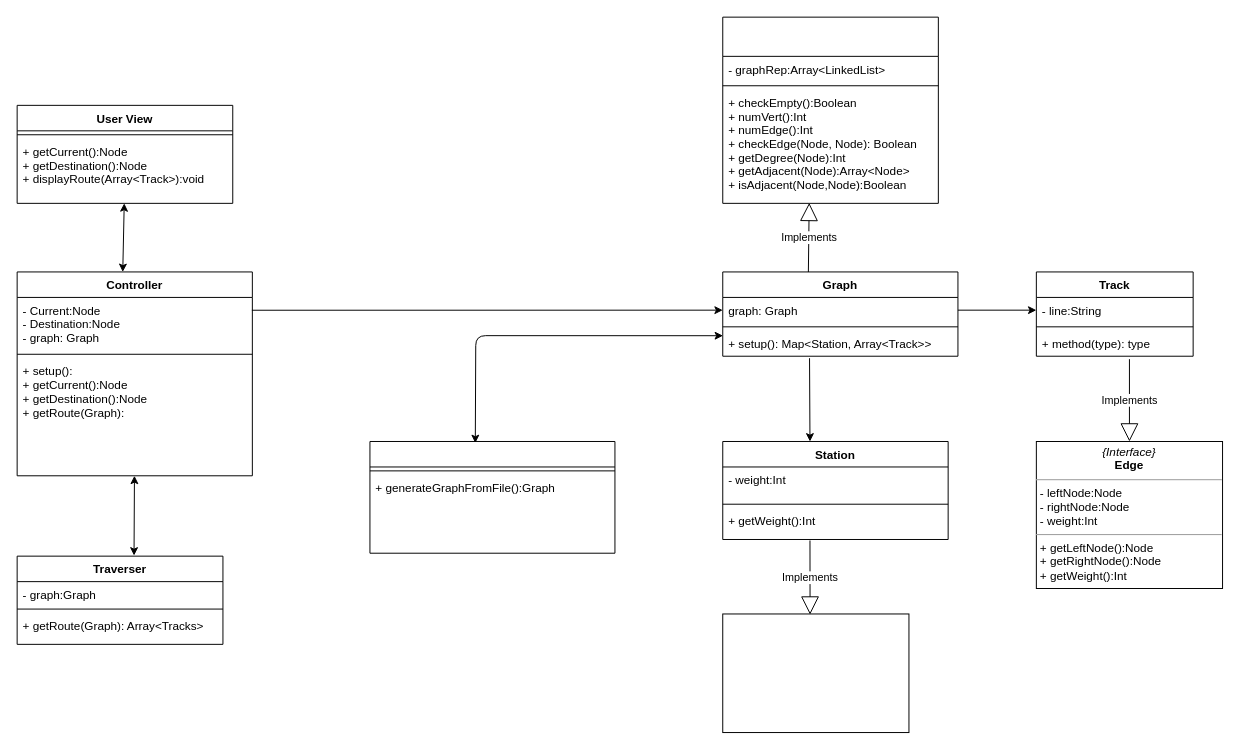
Image size: 1240x750. Some labels were removed from this diagram. Each missing label, with the box of its shape:
Parser: (369, 441, 615, 553)
{Interface} Graph: (722, 16, 938, 203)
{Interface} Node - id: String, Int + getID():String, Int: (722, 613, 909, 733)
